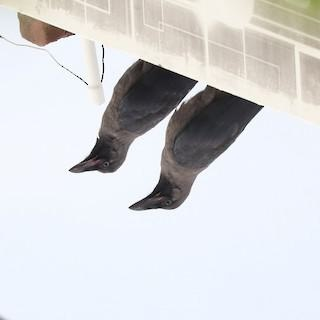crow: (127, 83, 263, 218), (64, 60, 189, 178)
